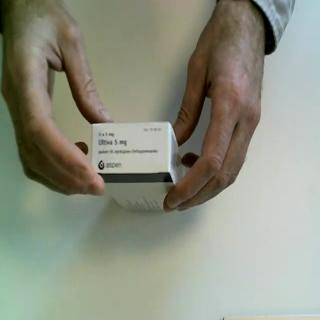ultiva5mg: (90, 120, 189, 214)
